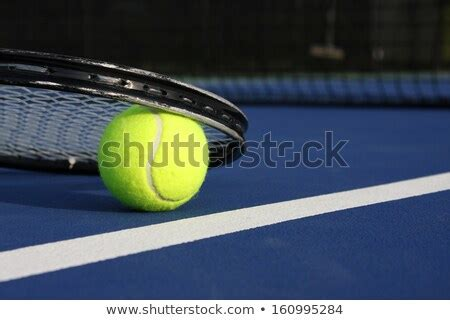tennis_ball: (97, 104, 209, 212)
